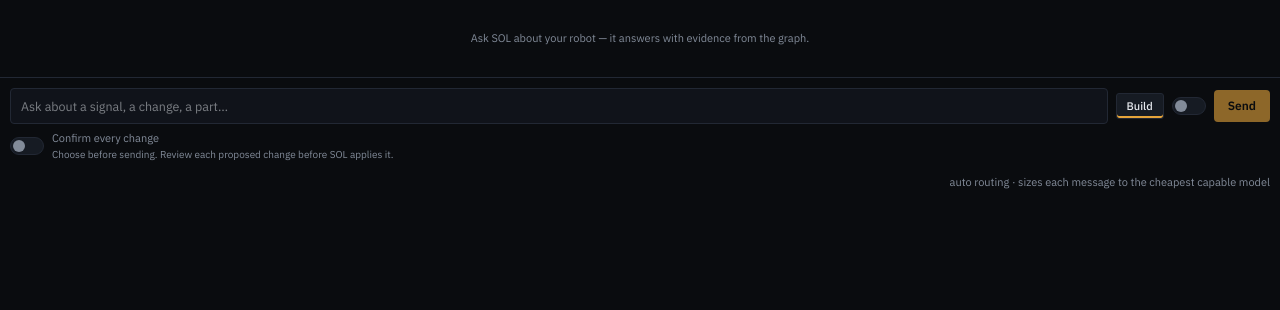
Test: Build auto-run (§10.1/§10.3) › shows a cardless command as a compact row with its output block
The width and height of the screenshot is (1280, 310).
Type "ls" into the dropdown with placeholder "Ask about a signal, a change, a part…". click: (559, 106)
box: [10,88,1108,124]
Then press Enter
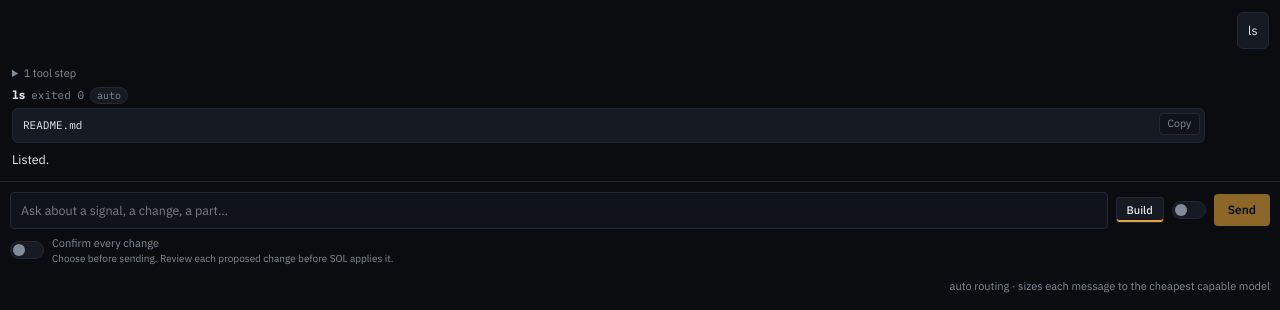
Now the text "README.md" is shown, box [23,118,82,132]
Now the button with aria-label "Copy output" is shown, box [1158,113,1200,135]
